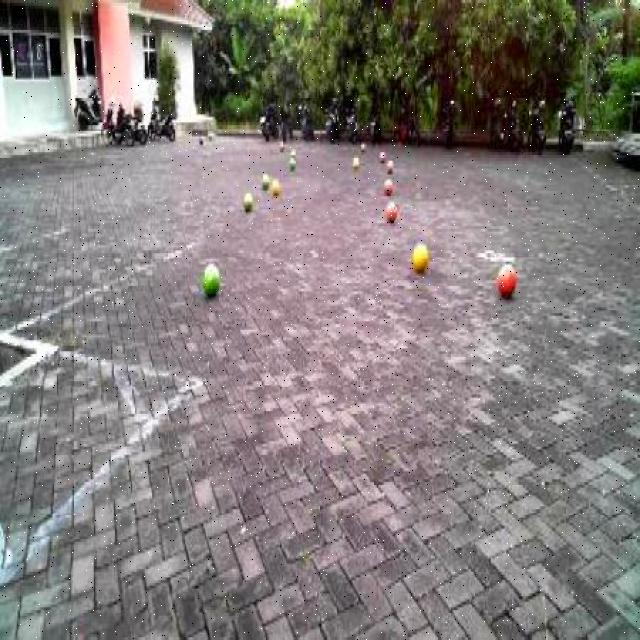buoy: (491, 256, 522, 306), (196, 257, 225, 302), (409, 234, 432, 275)
